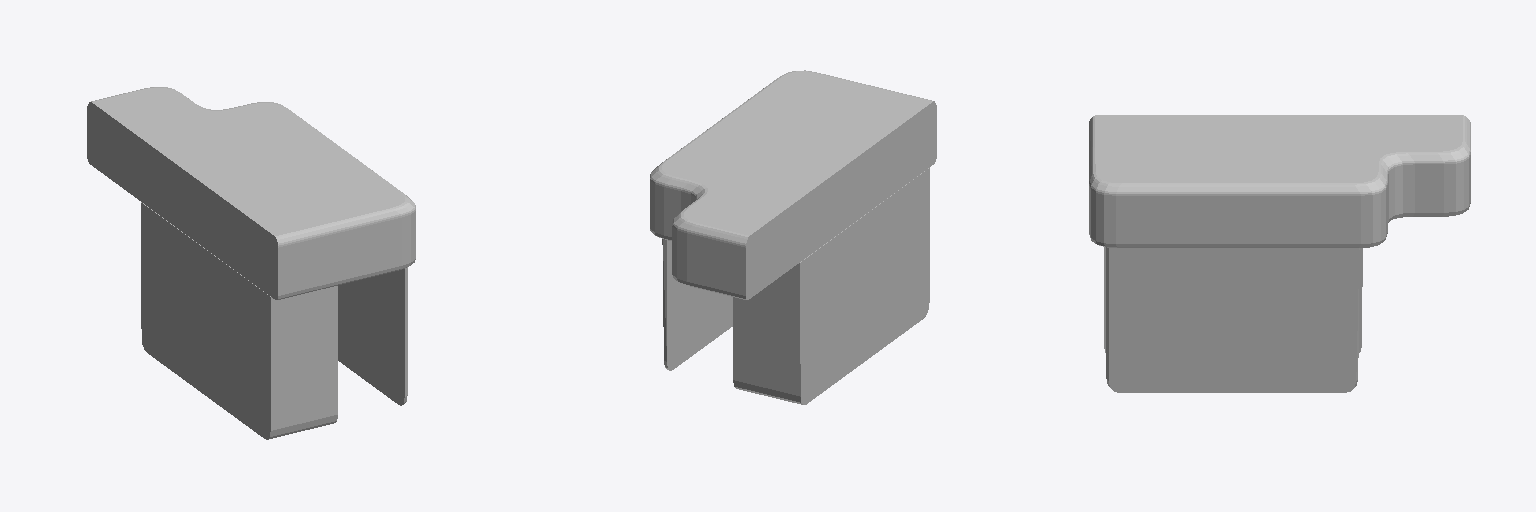
File: Atellica Daytona Track.obj
3 views of the same model, side by side, from view 1: azimuth 30°, elevation 25°; view 2: azimuth 150°, elevation 25°; view 3: azimuth 270°, elevation 25° (orthographic).
Visible parts, largest first — view 1: object1; view 2: object1; view 3: object1.
Part boxes in pixels (bbox=[...]): object1: bbox=[87, 87, 415, 439]; object1: bbox=[650, 70, 936, 404]; object1: bbox=[1089, 115, 1470, 392].
Bounding box in the file's own units: 25.12 × 34.24 × 56.53.